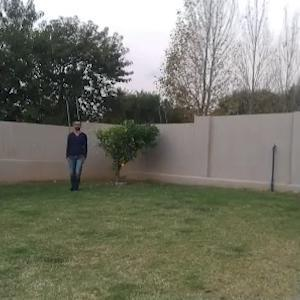follow: (66, 114, 86, 195)
